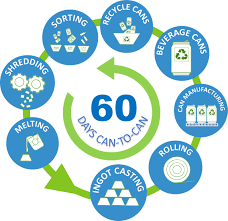can: (171, 39, 192, 77), (186, 103, 218, 124), (118, 18, 138, 33), (65, 28, 77, 44), (52, 31, 61, 44)
